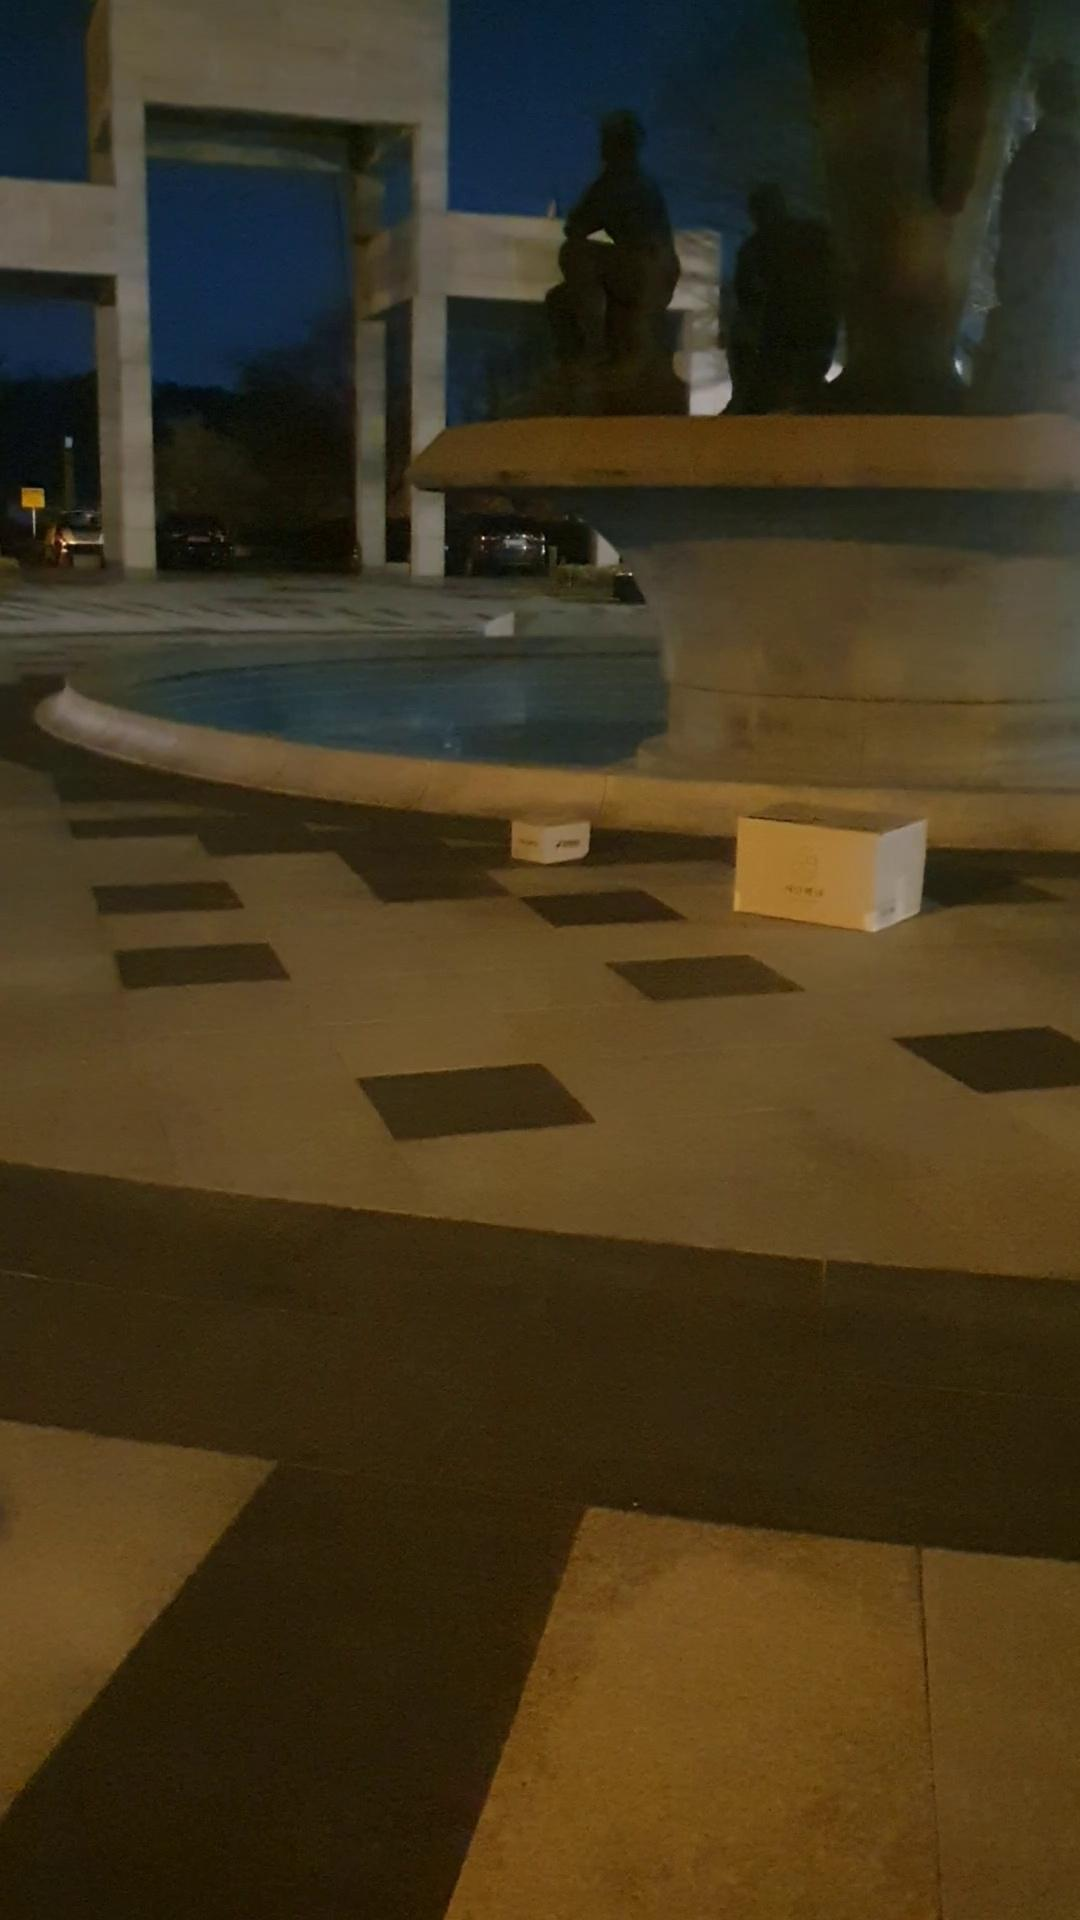Box: (727, 798, 940, 940), (506, 800, 615, 877)
